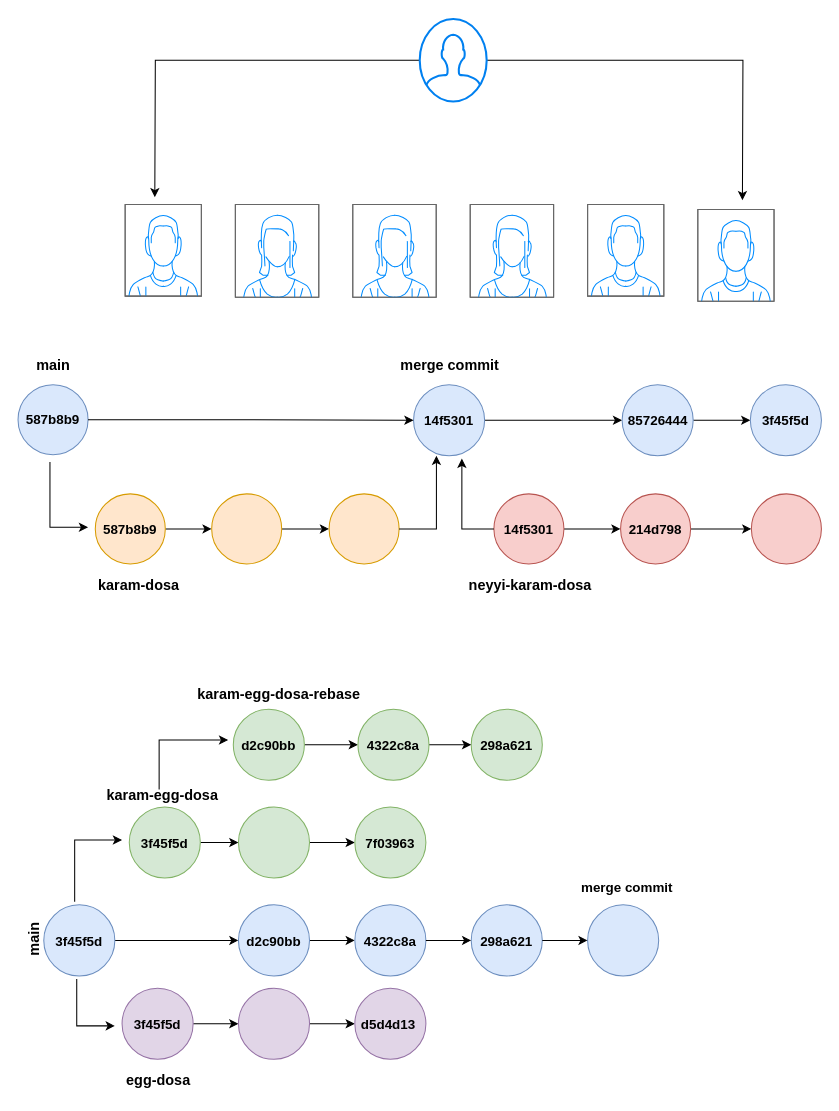
This 839x1111 diagram has some shape labels left out. The centre of each missing label's shape, as x and y in pixels:
1f46400: the point at 623,940
2052f25: the point at 363,528
467de17: the point at 246,528
5f51811: the point at 273,842
a215224: the point at 785,528
a394edc: the point at 273,1023
